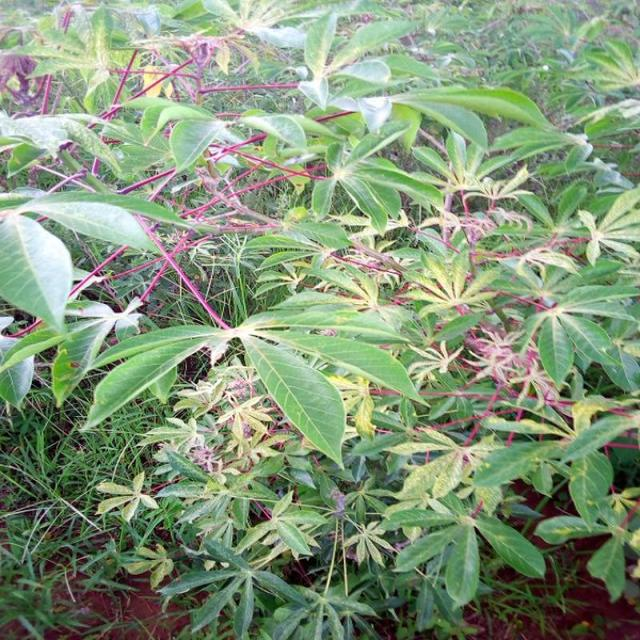cassava leaf: (241, 332, 347, 470), (0, 211, 73, 336)
